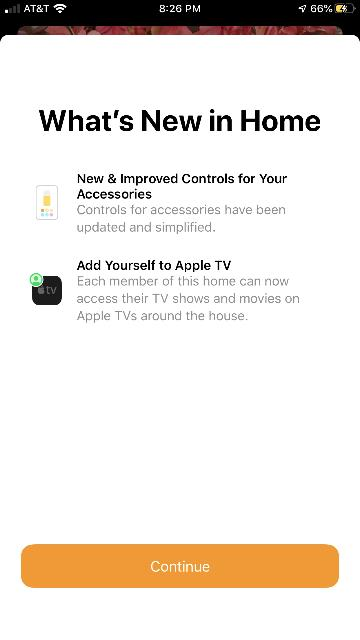Image: (29, 272, 62, 306), (36, 186, 58, 220)
Text: (77, 276, 299, 322), (39, 108, 321, 132), (77, 204, 285, 234), (77, 173, 287, 199), (77, 260, 231, 272), (151, 562, 209, 572)
TextButton: (21, 544, 339, 588)
UpperTaskBar: (0, 0, 360, 14)
